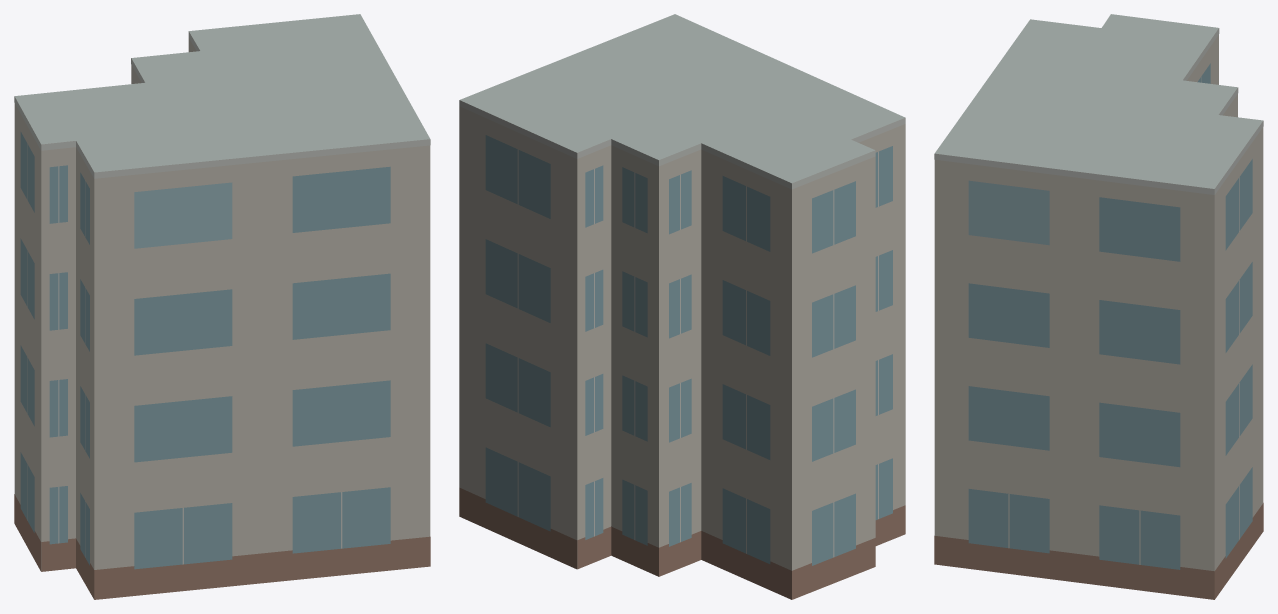
File: survey-upis-32919388.glb
3 renders of one model, left to right at view 1: azimuth 30°, elevation 25°; view 2: azimuth 150°, elevation 25°; view 3: azimuth 270°, elevation 25°, orthographic. The views are drawn at different scales.
Visible parts, largest first — view 1: survey-upis-32919388.tmp; view 2: survey-upis-32919388.tmp; view 3: survey-upis-32919388.tmp.
Boxes of the visible parts, box(x1,y1,x2,y2) form: survey-upis-32919388.tmp: box(14, 14, 430, 599); survey-upis-32919388.tmp: box(459, 14, 905, 599); survey-upis-32919388.tmp: box(934, 14, 1263, 599).
Size of the model in its own units: 15.08 by 16.5 by 11.99.
